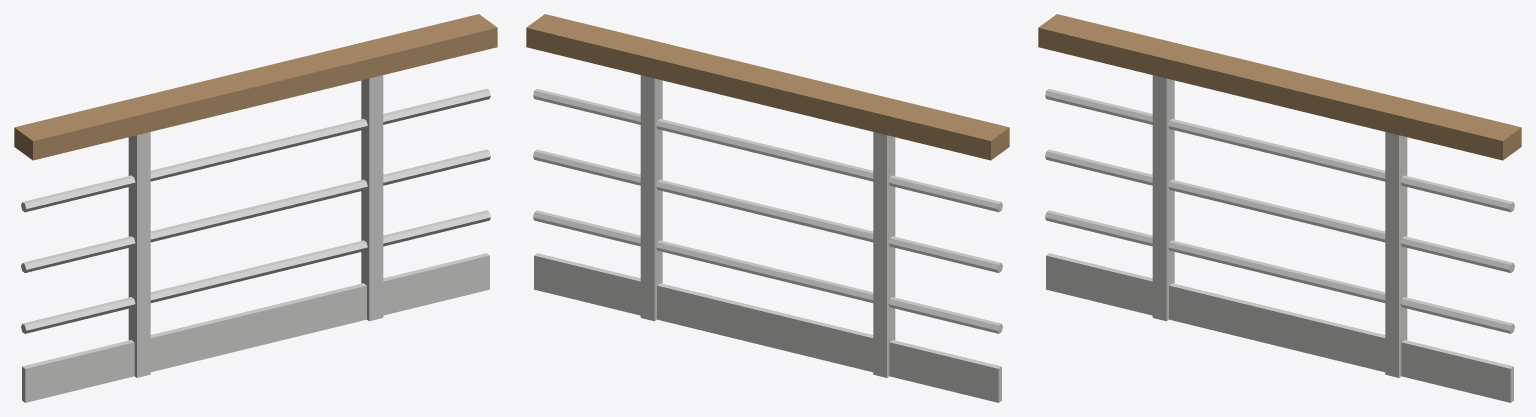
File: CR_Borda.fbx
3 views of the same model, side by side, from view 1: azimuth 30°, elevation 25°; view 2: azimuth 150°, elevation 25°; view 3: azimuth 330°, elevation 25° (orthographic).
Visible parts, largest first — view 1: CR_Borda; view 2: CR_Borda; view 3: CR_Borda.
Boxes of the visible parts, x1,y1,x2,y2 form: CR_Borda: [14, 14, 497, 402]; CR_Borda: [526, 14, 1009, 402]; CR_Borda: [1038, 14, 1521, 402].
Size of the model in its own units: 2 by 1.1 by 0.14.
